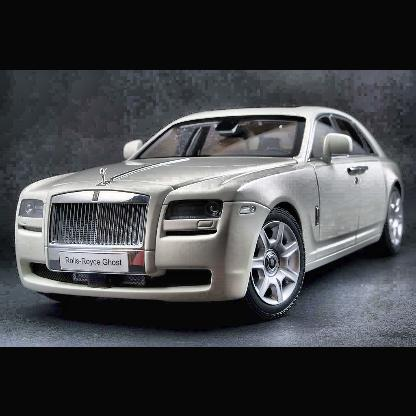Rolls-Royce Ghost Sedan 2012: (15, 105, 405, 324)
